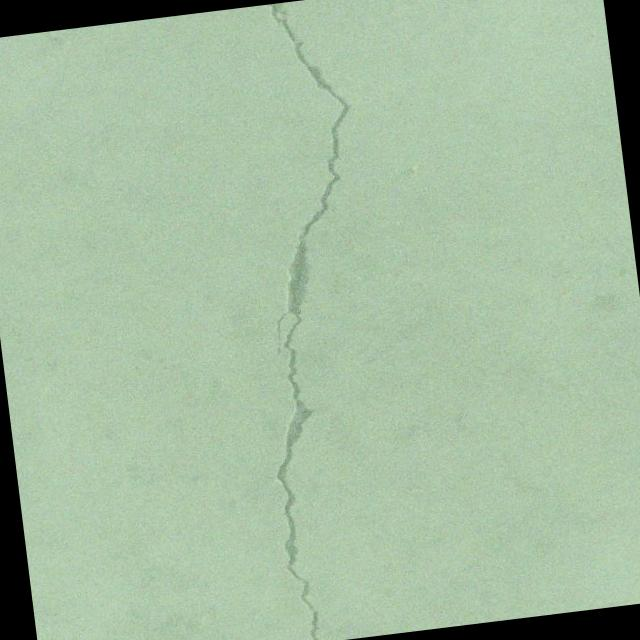crack: (217, 0, 416, 640), (146, 579, 191, 640)
